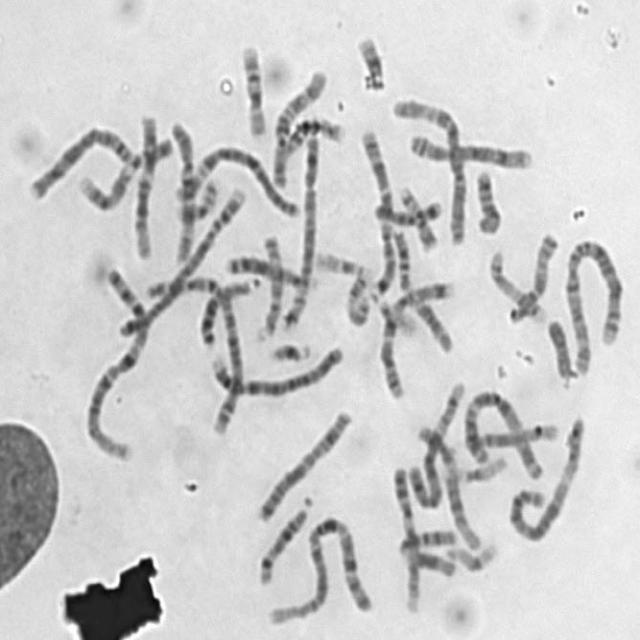A1: (78, 256, 152, 464), (260, 506, 377, 626)
A2: (130, 264, 250, 437), (558, 230, 626, 378)
A3: (502, 408, 587, 544), (459, 380, 547, 481)
B4: (108, 175, 250, 340), (200, 336, 348, 400)
B5: (276, 122, 322, 334), (402, 373, 468, 509)
C10: (265, 60, 329, 191), (165, 112, 199, 266)
C11: (392, 230, 450, 354), (393, 523, 458, 583)
C12: (412, 416, 484, 552), (127, 106, 160, 261)
C6: (388, 90, 469, 247), (186, 138, 301, 219)
C7: (373, 272, 457, 401), (354, 121, 398, 303)
C8: (21, 116, 137, 203), (401, 125, 535, 171)
C9: (73, 128, 176, 212), (386, 456, 423, 614)
D13: (193, 269, 261, 349), (220, 247, 318, 292)
D14: (251, 492, 314, 587), (471, 415, 560, 456)
D15: (503, 224, 559, 325), (251, 225, 285, 343)
E16: (272, 108, 348, 161), (234, 35, 270, 138)
E17: (482, 241, 548, 323), (340, 262, 373, 328)
E18: (369, 191, 446, 226), (468, 161, 504, 235)
F19: (440, 532, 500, 574), (453, 448, 509, 485)
F20: (394, 177, 441, 252), (174, 170, 222, 220)
G21: (349, 26, 388, 92), (264, 332, 314, 366)
G22: (372, 290, 420, 340), (309, 242, 369, 278)
X: (250, 401, 354, 523)
Y: (541, 309, 575, 380)
